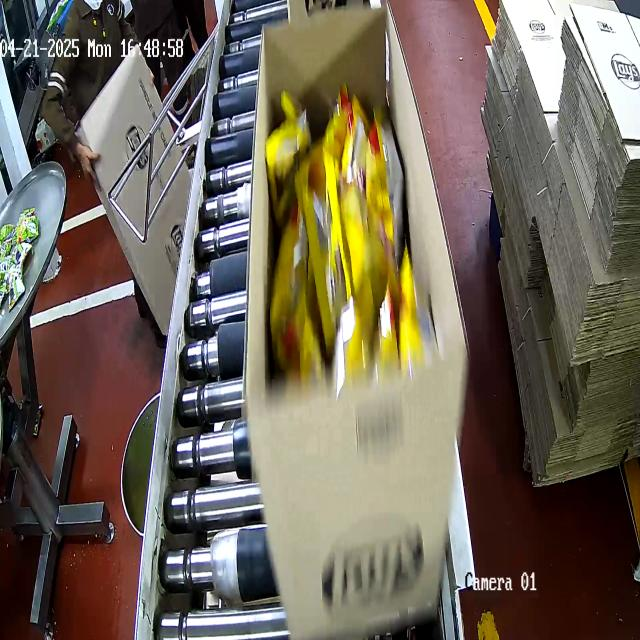SALTED: (263, 80, 410, 405)
